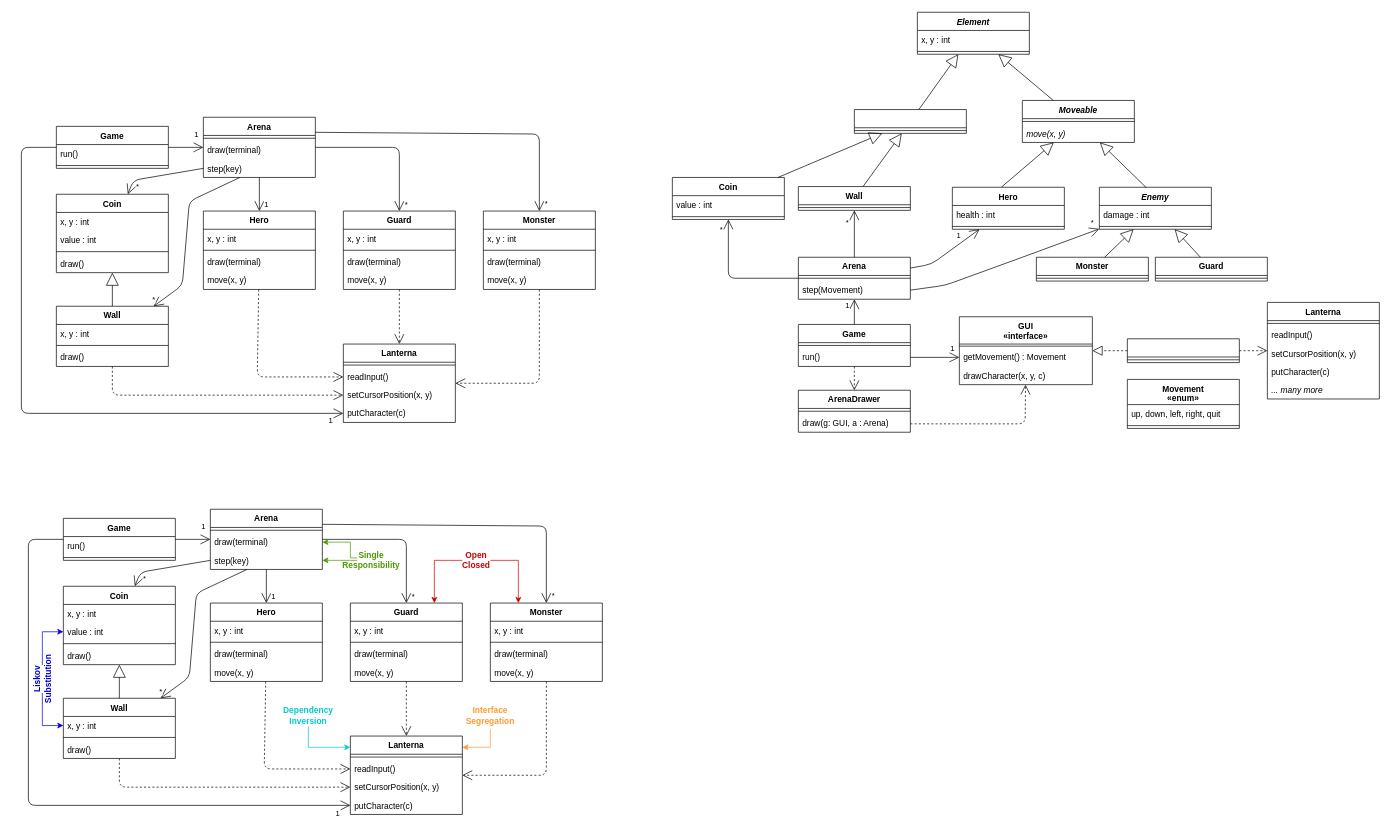
Image size: 1392x830. Some labels were removed from this diagram. Each missing label, with the centre of its shape:
"Fixed" belongs at point 910,121.
"Lanterna GUI" belongs at point 1183,350.
